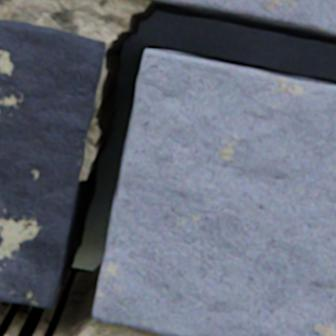brick: (93, 49, 335, 335), (0, 20, 105, 308), (154, 0, 335, 36)
crack: (0, 0, 335, 335)
